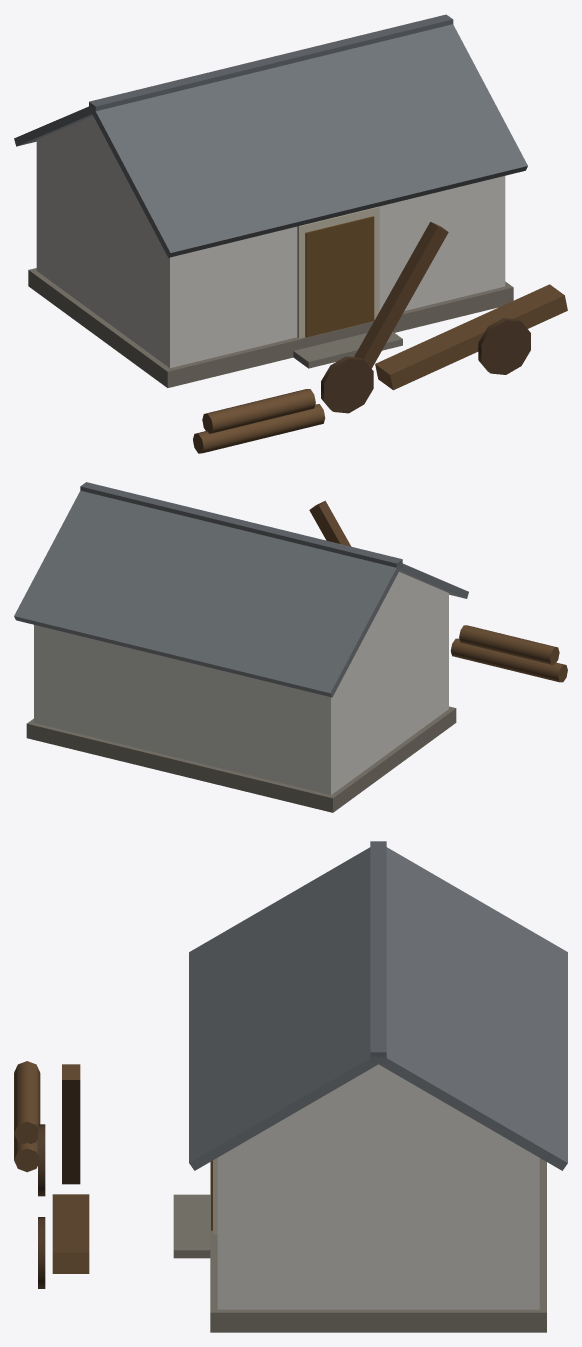
The model's file is procedural_siegeworkshop@6.glb.
The picture shows the model from 3 angles, top to bottom: view 1: azimuth 30°, elevation 25°; view 2: azimuth 150°, elevation 25°; view 3: azimuth 270°, elevation 25°; orthographic projection. The views are drawn at different scales.
Visible parts, largest first — view 1: part_0; view 2: part_0; view 3: part_0.
Boxes of the visible parts, x1,y1,x2,y2 form: part_0: (14,14,567,453); part_0: (14,482,567,812); part_0: (14,841,567,1332).
Bounding box in the file's own units: 7.57 × 4.28 × 7.57.
